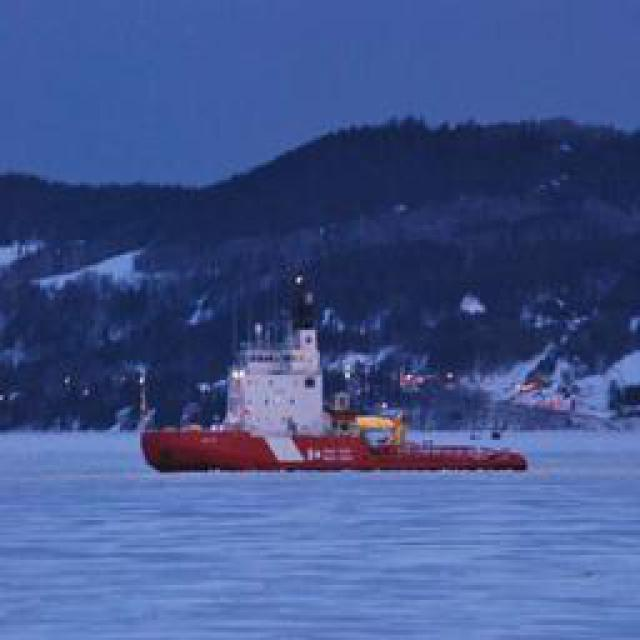Ship: (141, 424, 541, 477)
